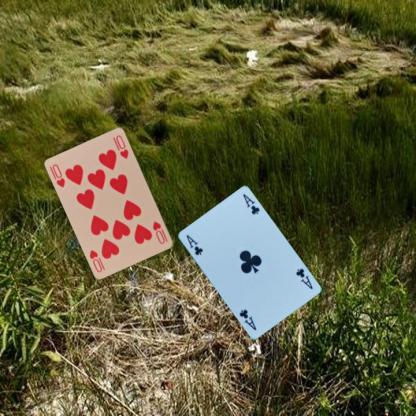10h: (151, 218, 170, 246), (50, 162, 66, 189)
Ac: (183, 232, 204, 257), (293, 266, 314, 290)
